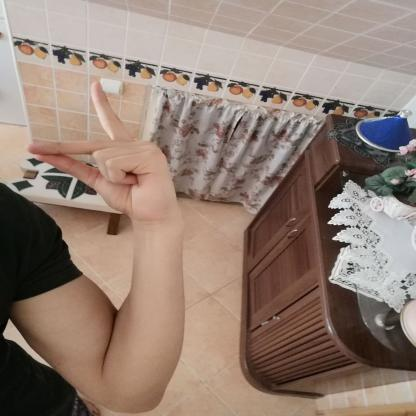TAA: (14, 72, 192, 232)
